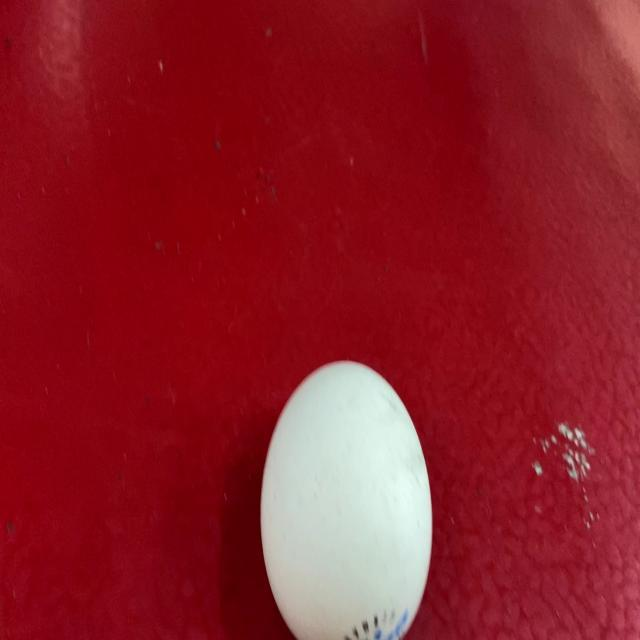ping-pong-ball: (256, 358, 437, 640)
